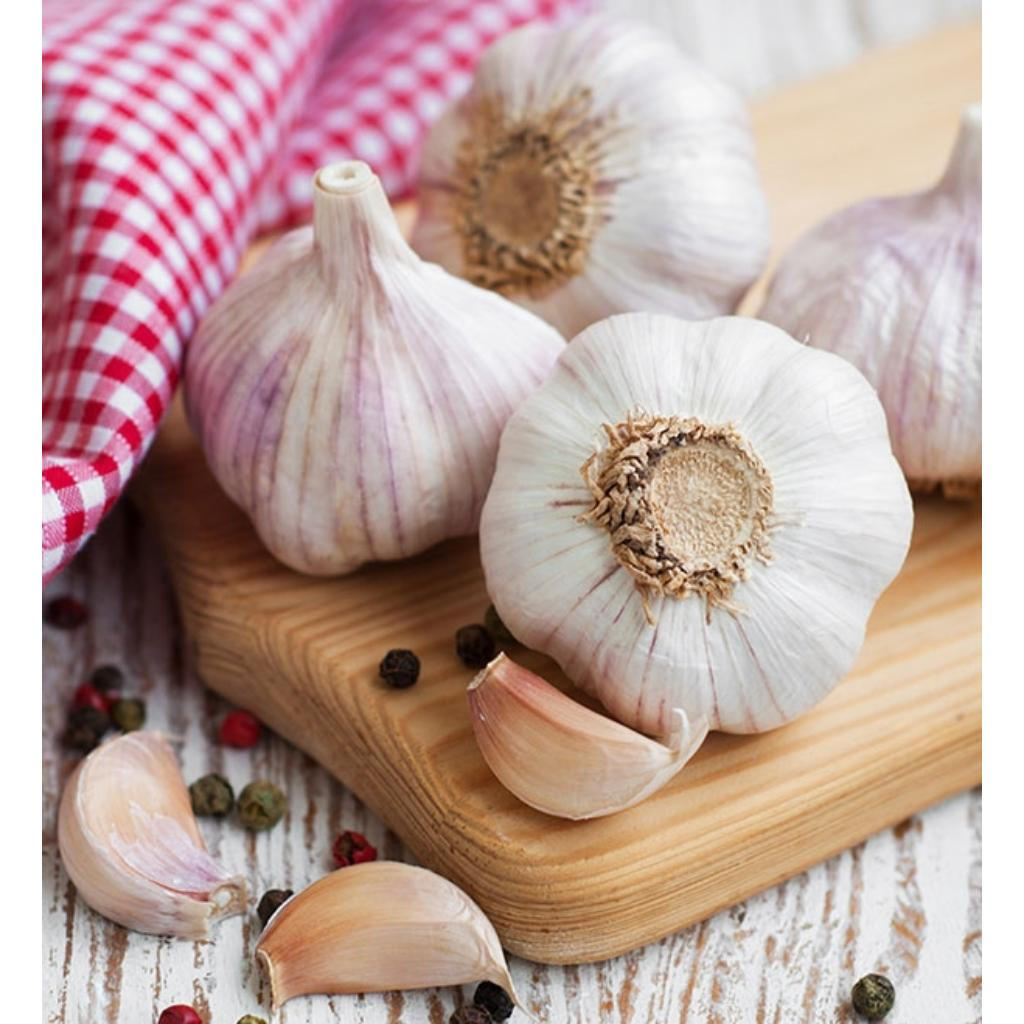garlic: (479, 312, 909, 733), (183, 160, 561, 572), (410, 14, 765, 334), (758, 104, 979, 493), (466, 651, 706, 817), (56, 729, 244, 937), (255, 859, 516, 1005)
